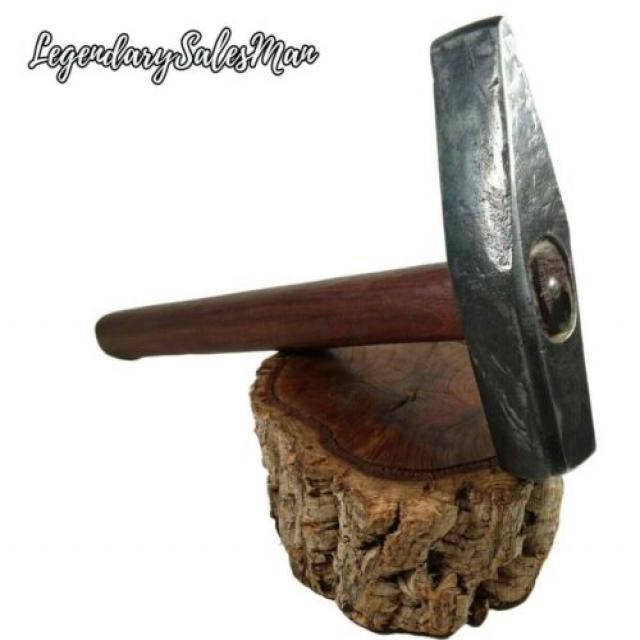hammer: (88, 0, 602, 481)
